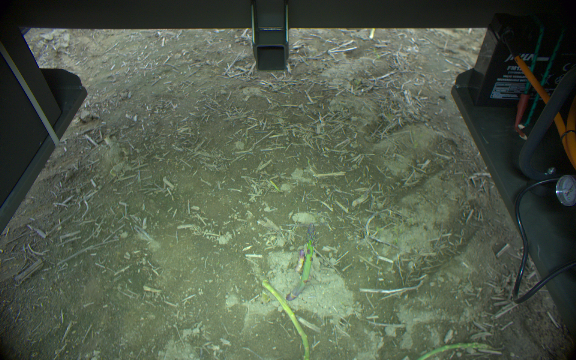aspa: (258, 278, 313, 360), (287, 222, 317, 301), (414, 340, 501, 360), (293, 251, 306, 278)
